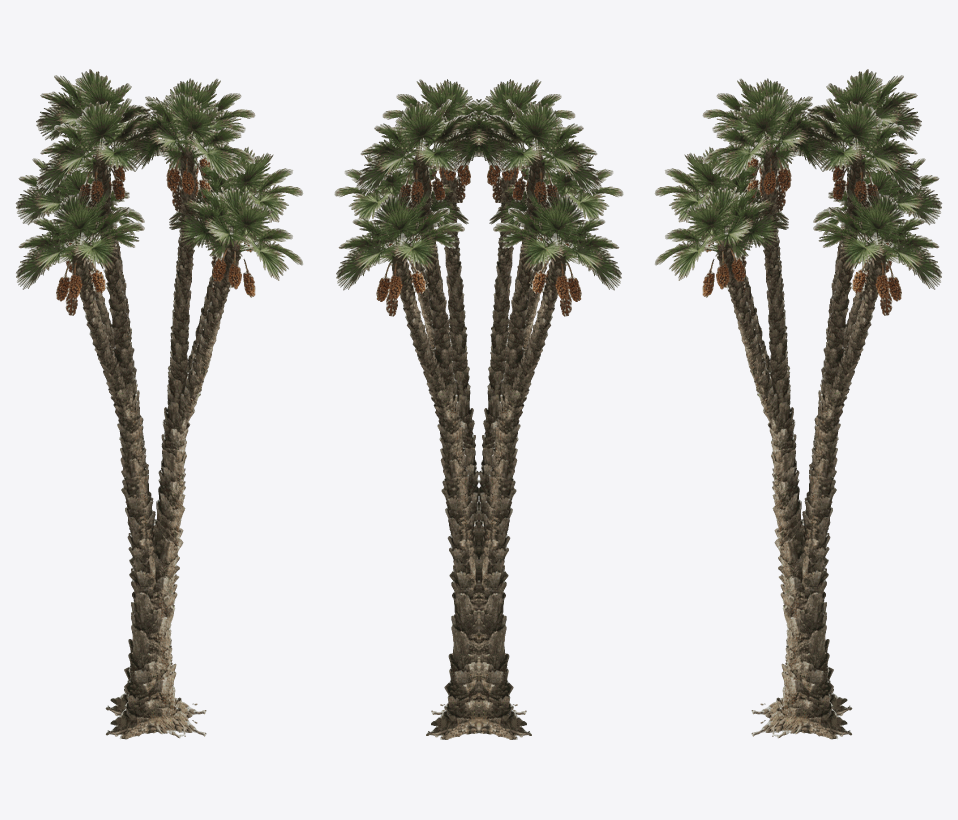
Rendered from palmier-doum.glb.
3 views of the same model, side by side, from view 1: azimuth 30°, elevation 25°; view 2: azimuth 150°, elevation 25°; view 3: azimuth 270°, elevation 25° (orthographic).
Visible parts, largest first — view 1: palmier-doum; view 2: palmier-doum; view 3: palmier-doum.
Boxes of the visible parts, left/top/right/bottom form: palmier-doum: left=15, top=69, right=303, bottom=739; palmier-doum: left=334, top=79, right=623, bottom=739; palmier-doum: left=654, top=69, right=942, bottom=739.
Size of the model in its own units: 4.22 by 9.03 by 3.65.
Materials: 1 (1 with a texture image).
